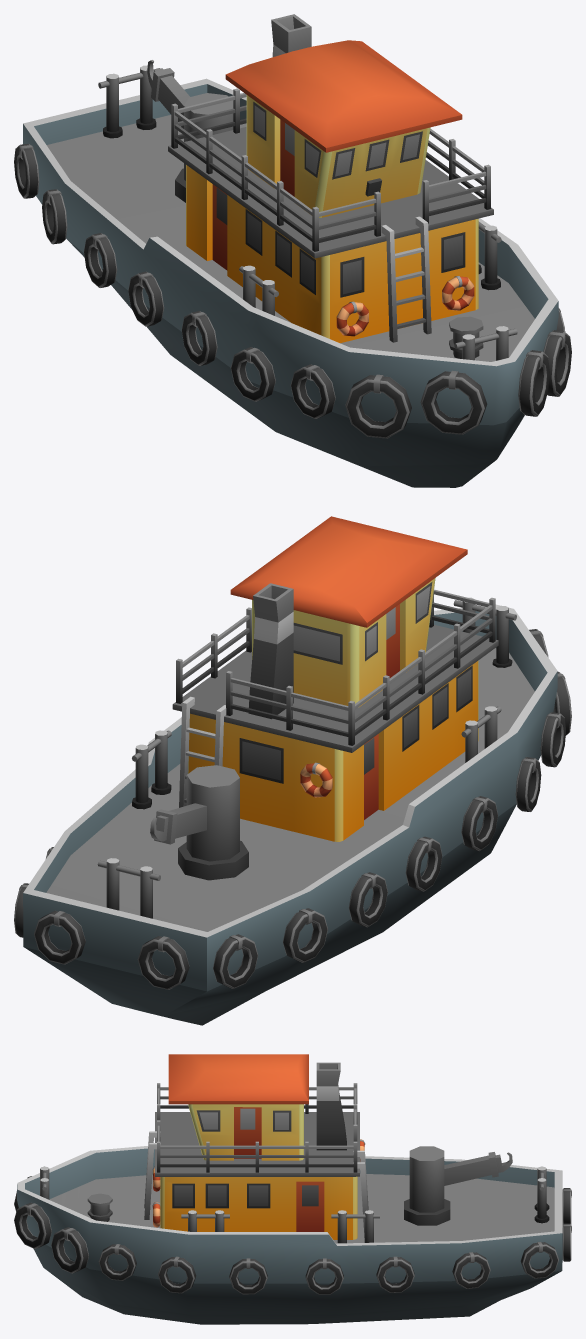
Rendered from vessel tractor.fbx.
The picture shows the model from 3 angles, top to bottom: view 1: azimuth 30°, elevation 25°; view 2: azimuth 150°, elevation 25°; view 3: azimuth 270°, elevation 25°; orthographic projection. The views are drawn at different scales.
Visible parts, largest first — view 1: vessel_tractor; view 2: vessel_tractor; view 3: vessel_tractor.
Part boxes in pixels (x1=…): vessel_tractor: x1=14, y1=14, x2=571, y2=487; vessel_tractor: x1=14, y1=516, x2=571, y2=1025; vessel_tractor: x1=14, y1=1054, x2=571, y2=1324.
Size of the model in its own units: 608 by 713 by 1420.
Materials: 1 (1 with a texture image).
